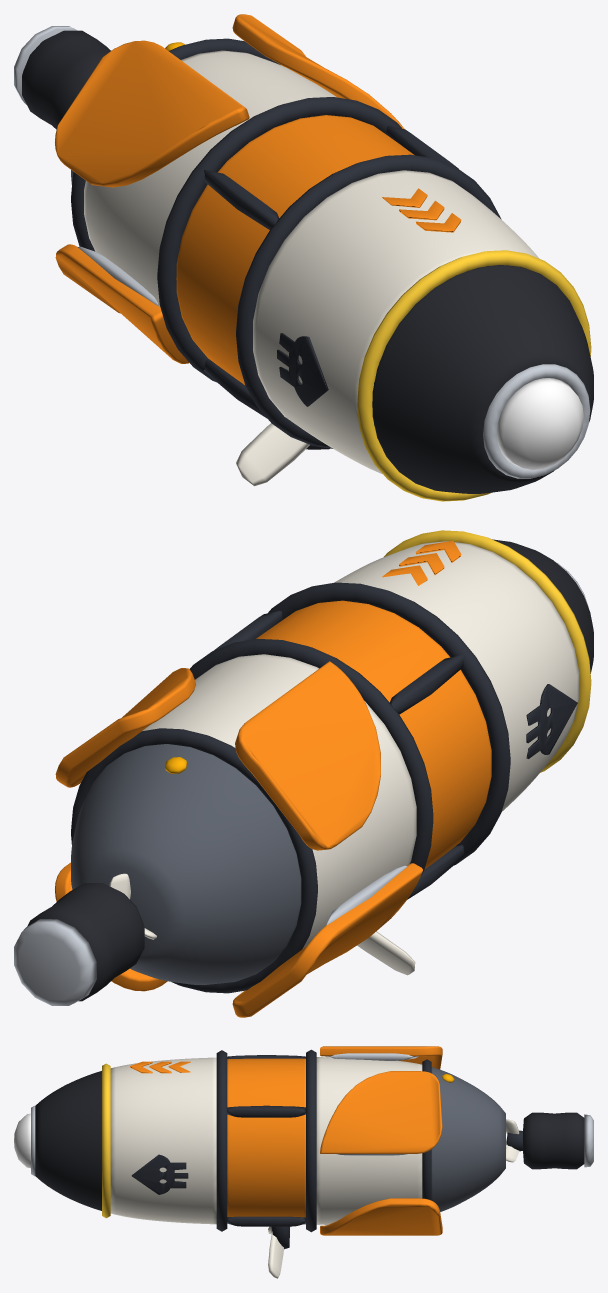
Rendered from sub_torpedo.glb.
3 renders of one model, top to bottom at view 1: azimuth 30°, elevation 25°; view 2: azimuth 150°, elevation 25°; view 3: azimuth 270°, elevation 25°, orthographic. The views are drawn at different scales.
Parts seen in each view (by area): view 1: body, ink, glow, prop; view 2: body, ink, prop; view 3: body, ink, prop, glow.
Boxes of the visible parts, x1,y1,x2,y2 form: body: [14, 26, 593, 501]; ink: [55, 14, 461, 384]; glow: [496, 378, 583, 469]; prop: [236, 423, 329, 486]; body: [14, 530, 593, 1005]; ink: [55, 540, 491, 1017]; prop: [357, 931, 415, 975]; body: [31, 1049, 593, 1232]; ink: [130, 1046, 442, 1235]; prop: [268, 1226, 289, 1278]; glow: [14, 1113, 30, 1168].
Bounding box in the file's own units: 0.0695 × 0.0839 × 0.2206.
